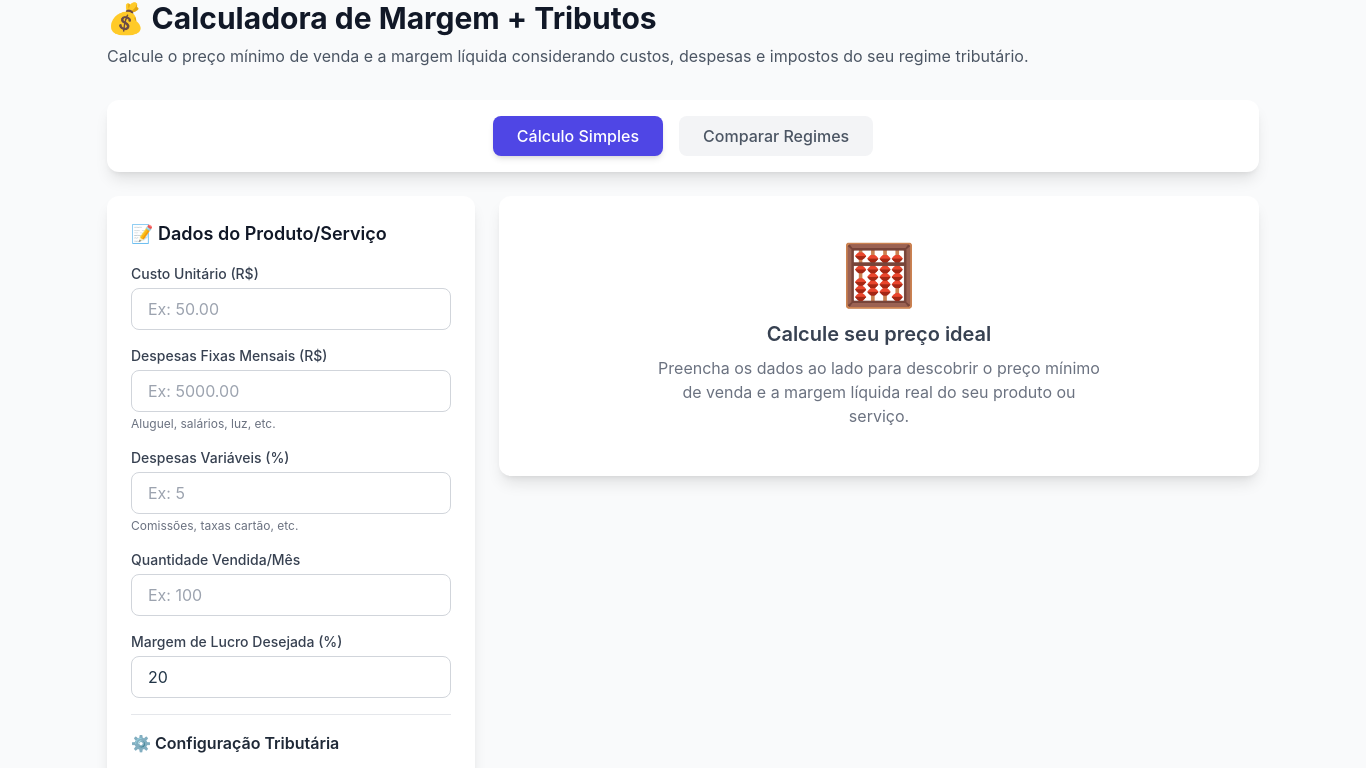
CalculadoraMargem - Testes de UI › Dado botão desabilitado › Quando preencher custo e quantidade, Então botão deve estar habilitado
The image size is (1366, 768).
In the number field with placeholder "Ex: 50.00": x=291, y=309 [131, 288, 451, 330], type "50"
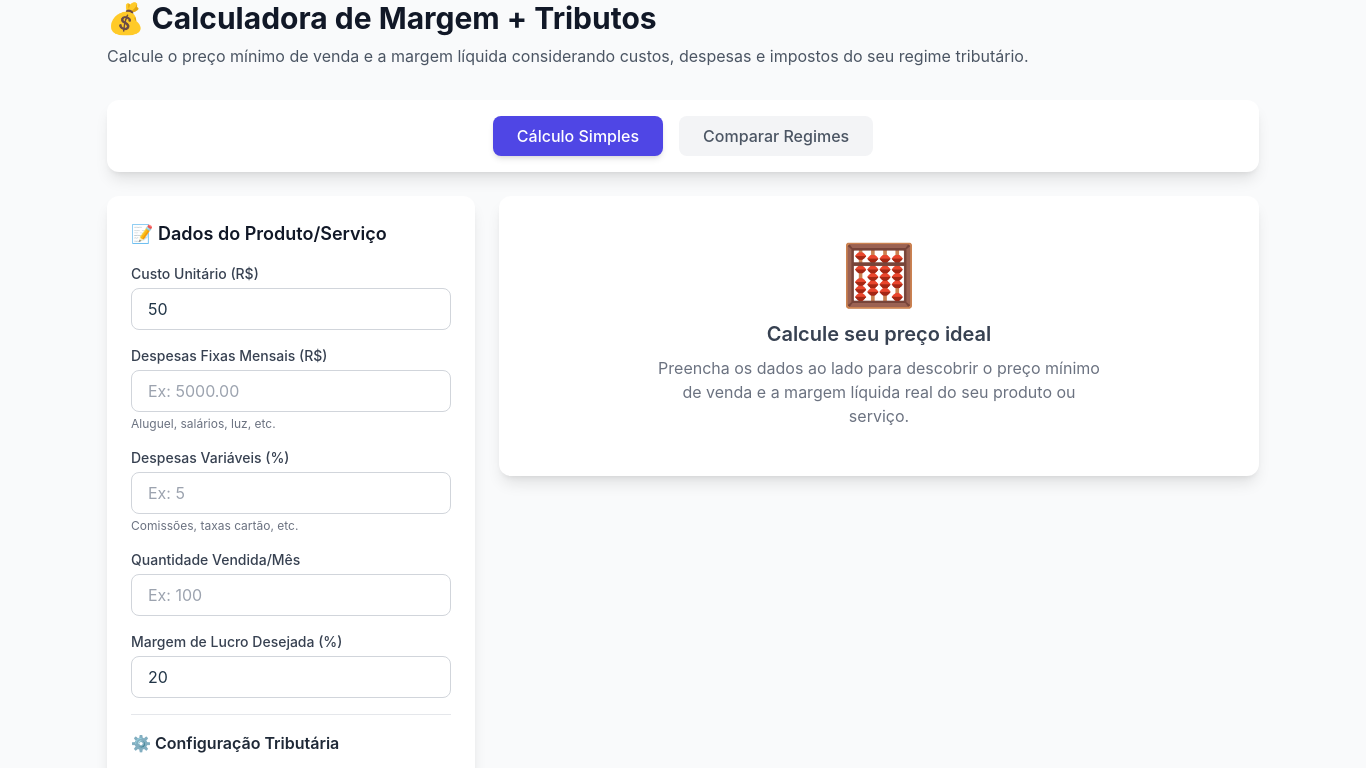
In the number field with placeholder "Ex: 100": x=291, y=595 [131, 574, 451, 616], type "100"
(page scrolled)
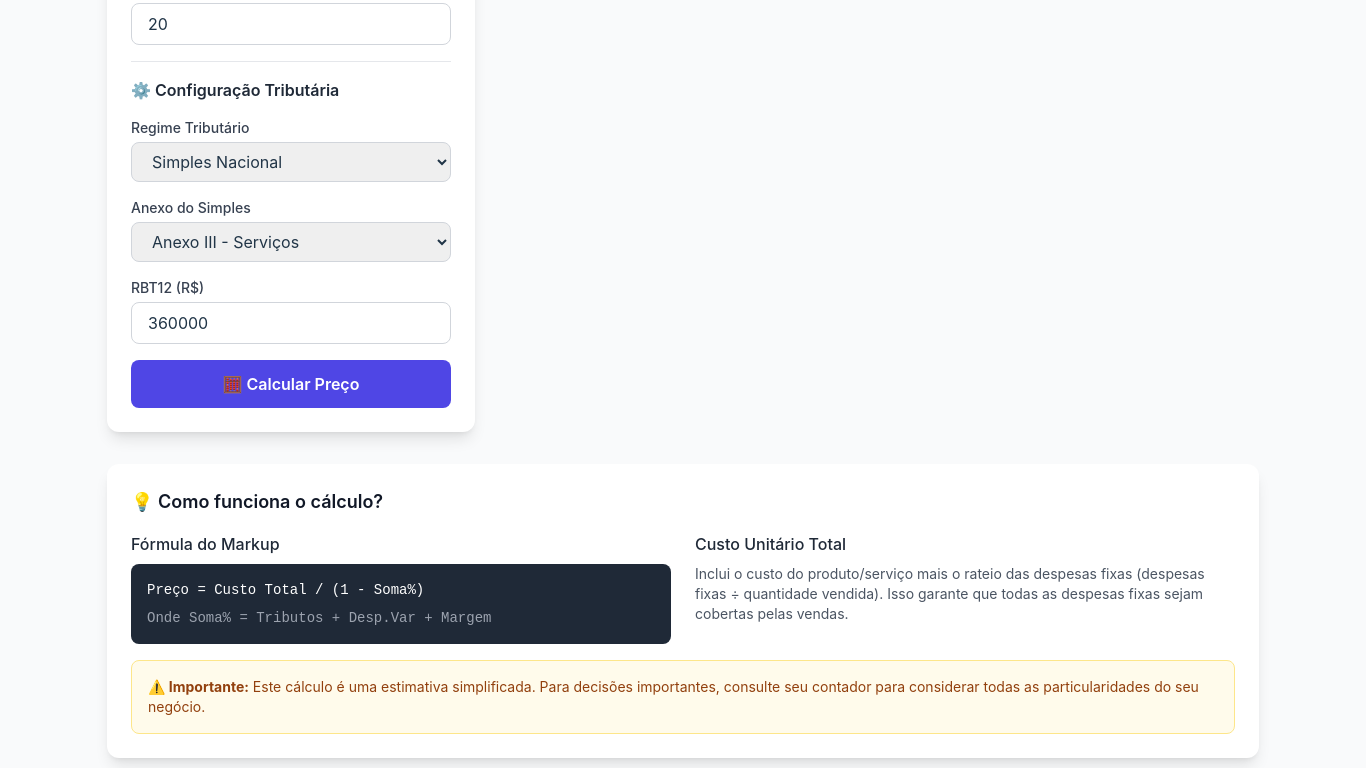
Now the button is enabled, box [131, 360, 451, 408]
